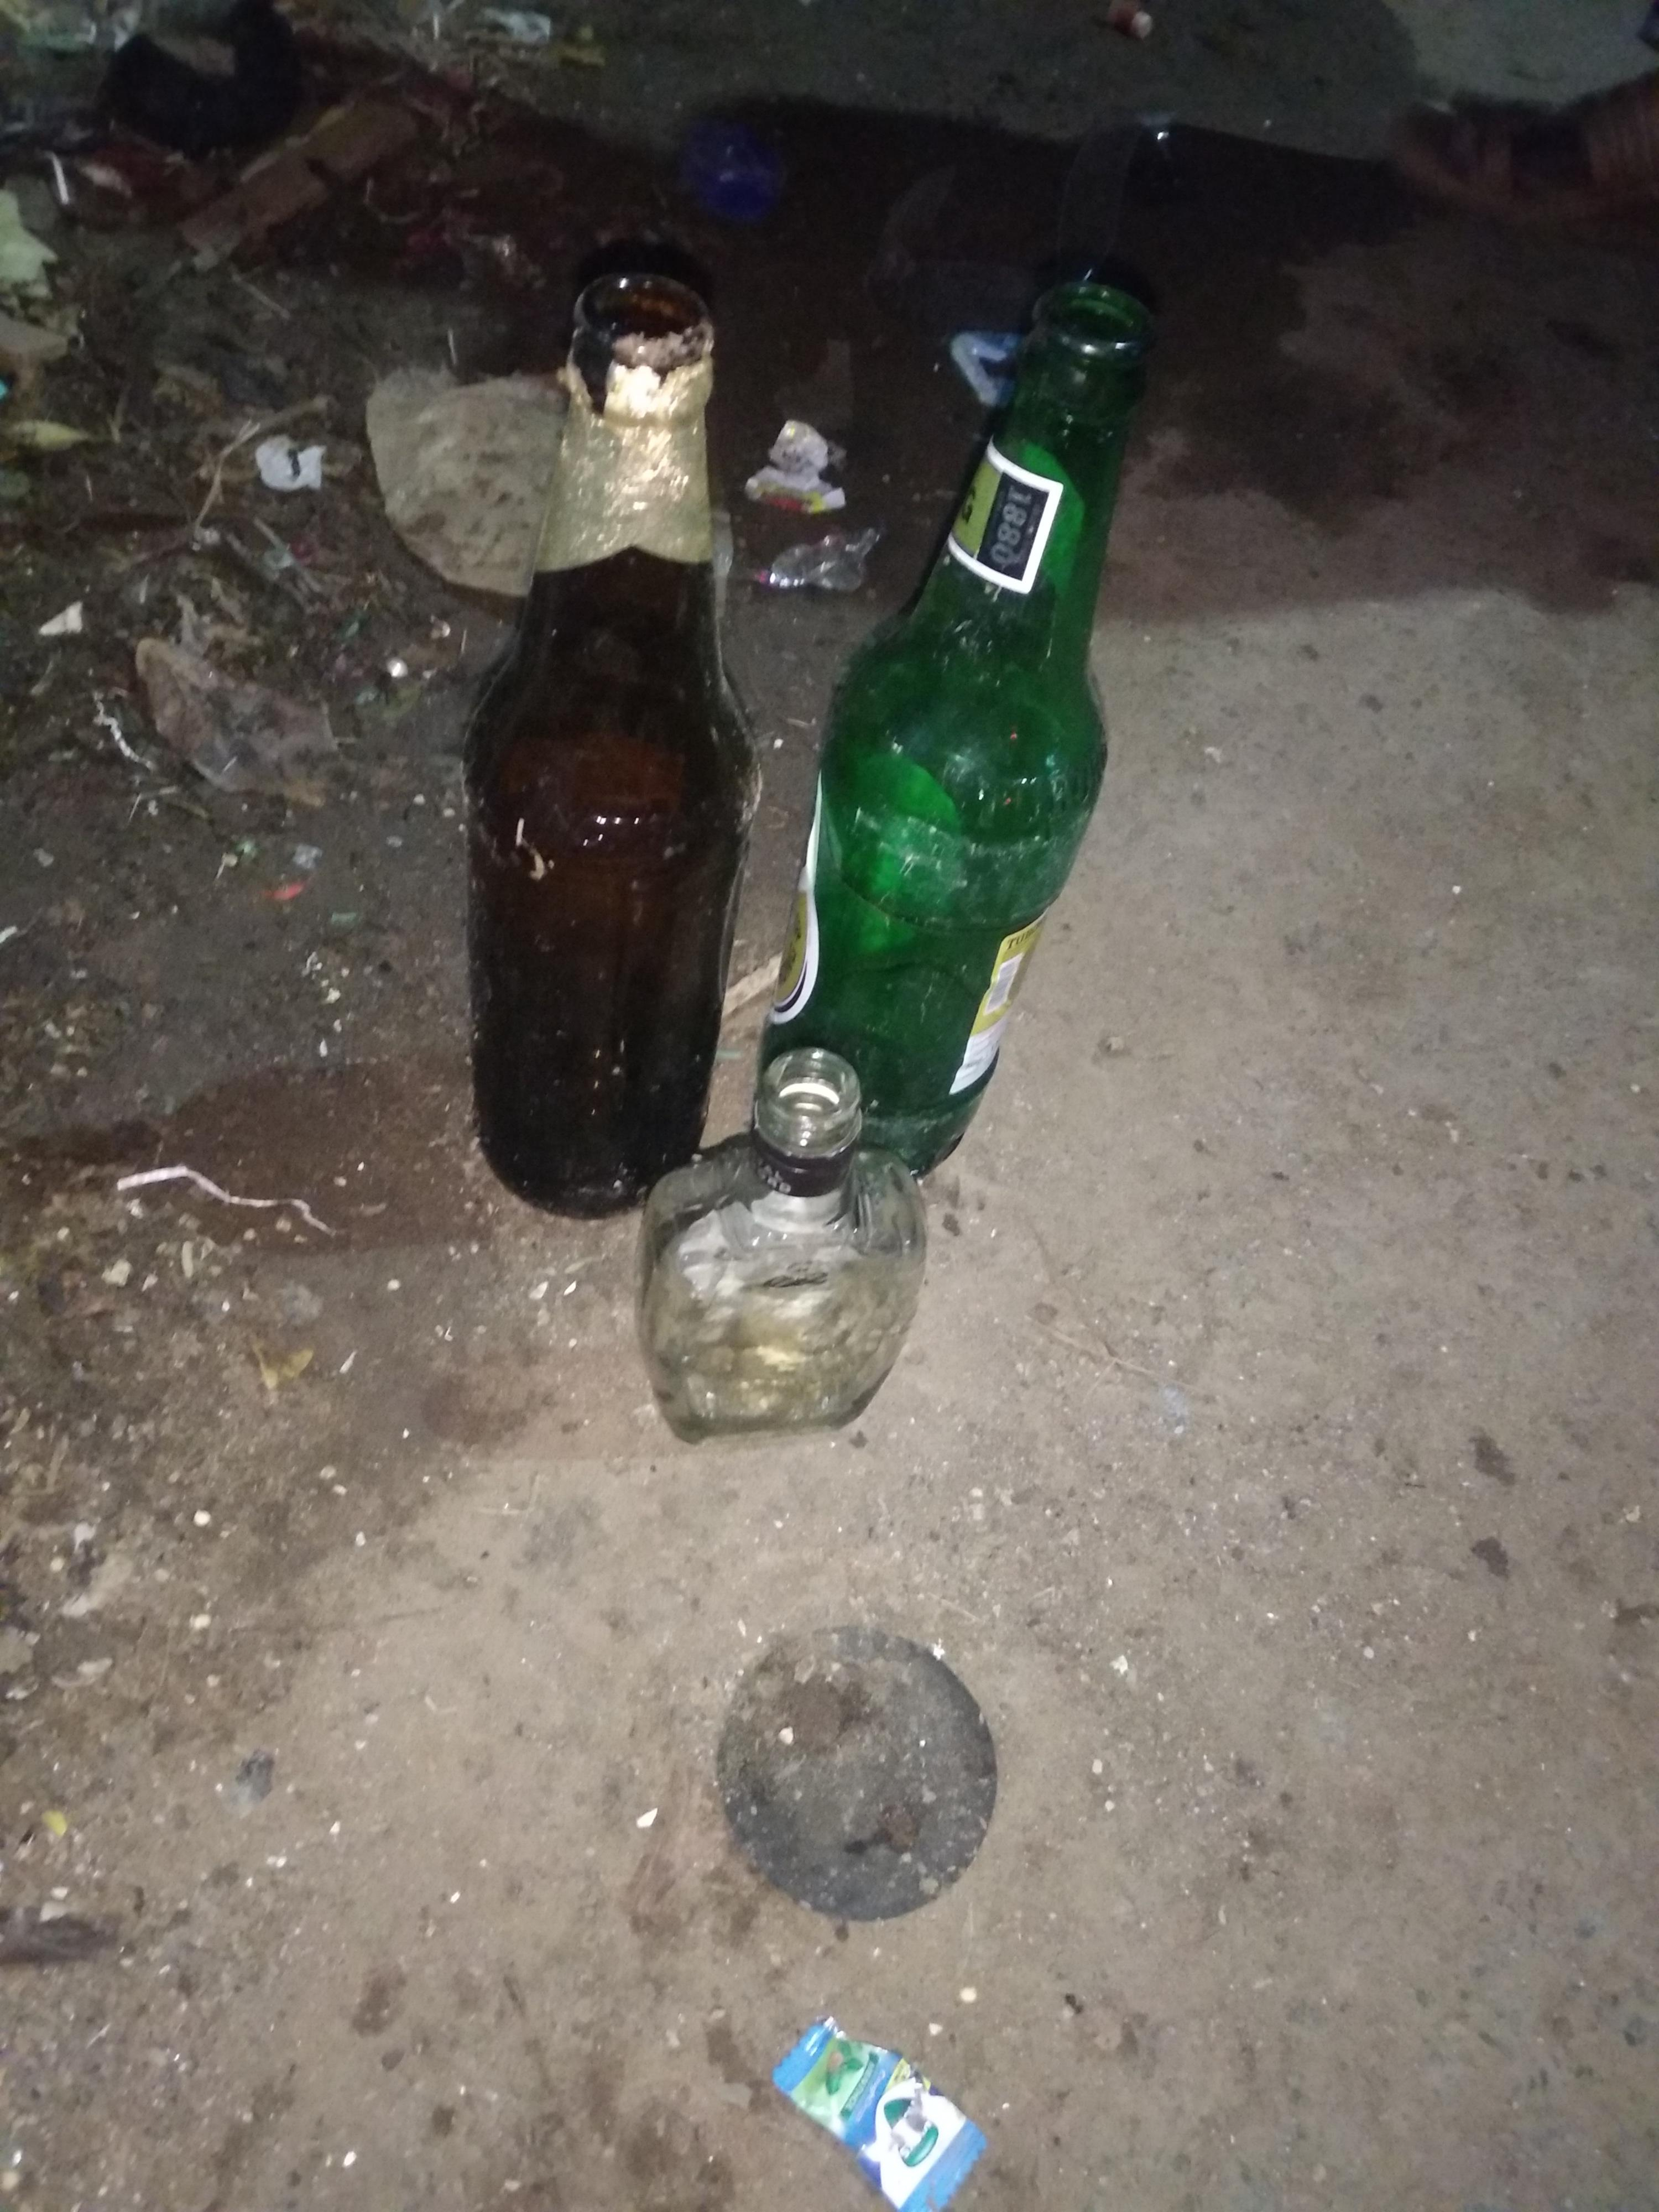organic: (430, 251, 1190, 1477)
